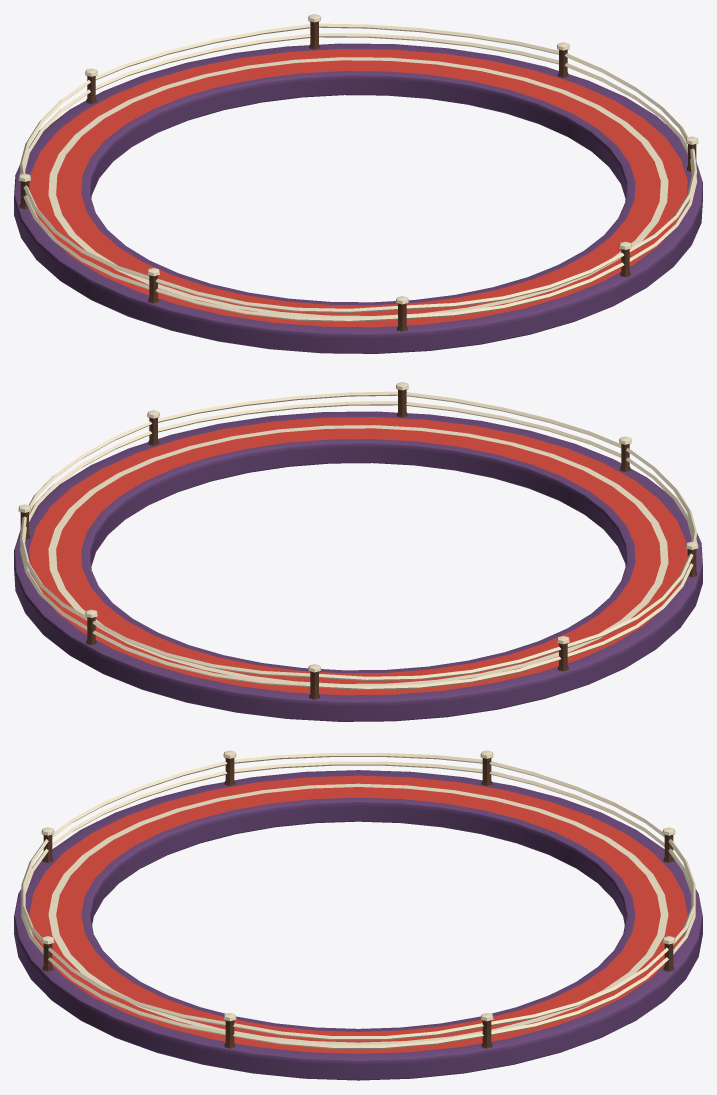
Rendered from sumo_ring_3.glb.
3 views of the same model, one above another, from view 1: azimuth 30°, elevation 25°; view 2: azimuth 150°, elevation 25°; view 3: azimuth 270°, elevation 25° (orthographic).
Parts seen in each view (by area): view 1: sumo_ring_3; view 2: sumo_ring_3; view 3: sumo_ring_3.
Boxes of the visible parts, x1,y1,x2,y2 form: sumo_ring_3: (14, 14, 702, 353); sumo_ring_3: (14, 382, 702, 721); sumo_ring_3: (14, 750, 702, 1080).
Size of the model in its own units: 18 by 1.52 by 18.
